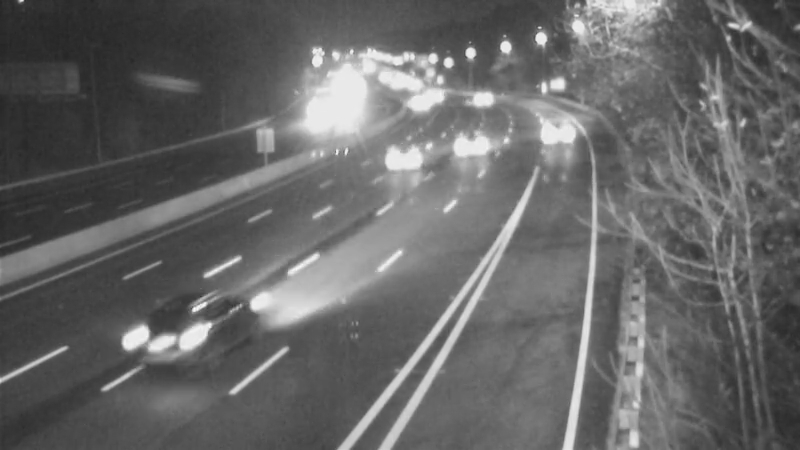vehicle: (105, 292, 215, 402), (363, 118, 443, 198), (451, 72, 501, 122), (390, 77, 440, 127), (536, 114, 586, 164), (447, 117, 497, 167), (296, 92, 346, 142), (321, 83, 371, 133)
